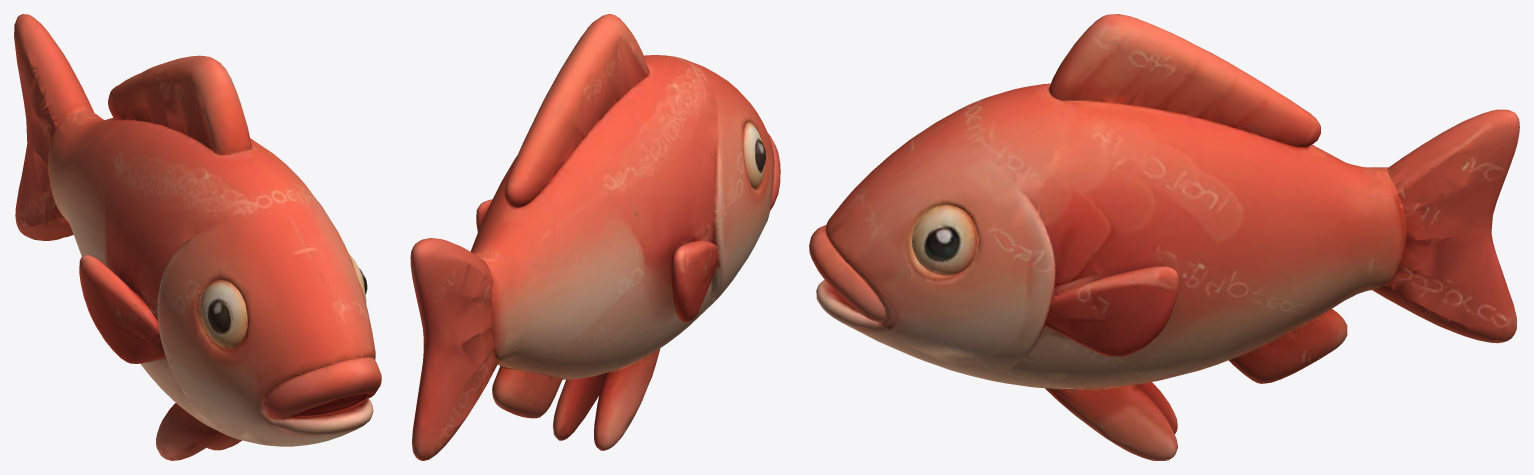
Rendered from snapper_pbr.glb.
The picture shows the model from 3 angles, left to right: view 1: azimuth 30°, elevation 25°; view 2: azimuth 150°, elevation 25°; view 3: azimuth 270°, elevation 25°; orthographic projection. The views are drawn at different scales.
Visible parts, largest first — view 1: model; view 2: model; view 3: model.
Part boxes in pixels (box(x1,y1,x2,y2)): model: box(14, 14, 381, 460); model: box(410, 14, 780, 460); model: box(809, 14, 1519, 460).
Bounding box in the file's own units: 0.6566 × 1.23 × 1.83.
1 material, 1 textured.
